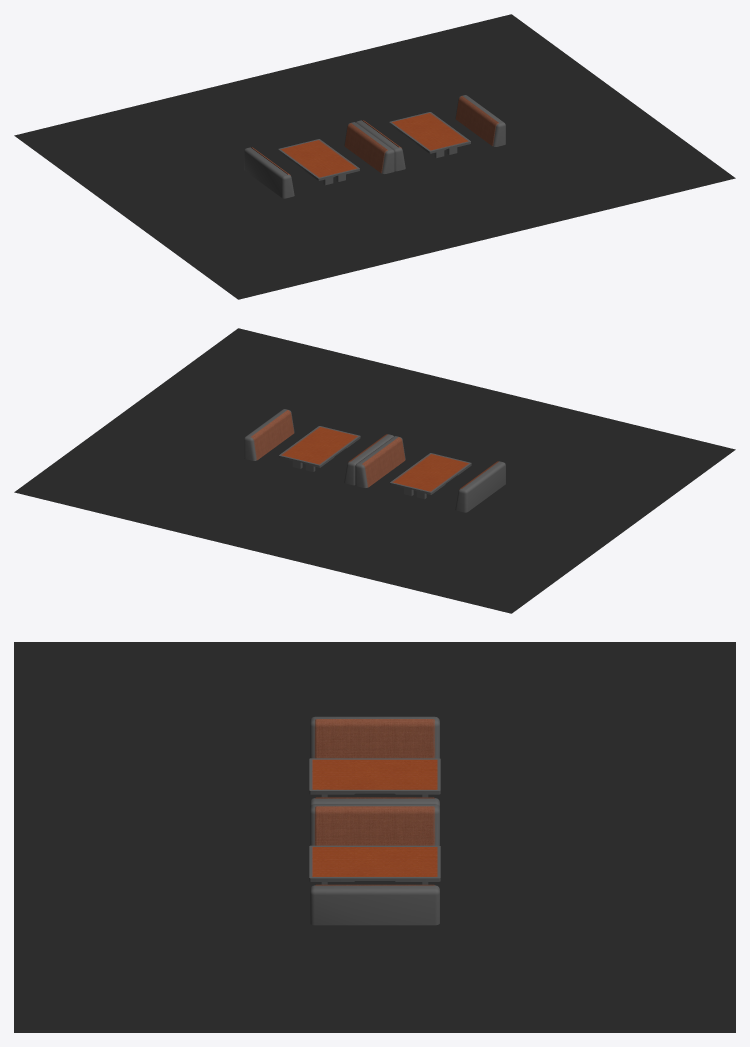
Rendered from table_sofa.glb.
The picture shows the model from 3 angles, top to bottom: view 1: azimuth 30°, elevation 25°; view 2: azimuth 150°, elevation 25°; view 3: azimuth 270°, elevation 25°; orthographic projection. The views are drawn at different scales.
Parts seen in each view (by area): view 1: Plane_floor_0, Cylinder.001_low_table_0; view 2: Plane_floor_0, Cylinder.001_low_table_0; view 3: Plane_floor_0, Cylinder.001_low_table_0.
Part boxes in pixels (x1=…): Plane_floor_0: x1=14, y1=14, x2=735, y2=299; Cylinder.001_low_table_0: x1=244, y1=95, x2=505, y2=198; Plane_floor_0: x1=14, y1=328, x2=735, y2=613; Cylinder.001_low_table_0: x1=244, y1=409, x2=505, y2=512; Plane_floor_0: x1=14, y1=642, x2=735, y2=1032; Cylinder.001_low_table_0: x1=309, y1=716, x2=440, y2=925.
Bounding box in the file's own units: 4.76e+07 × 4043356 × 3.72e+07.
2 materials, 1 textured.
